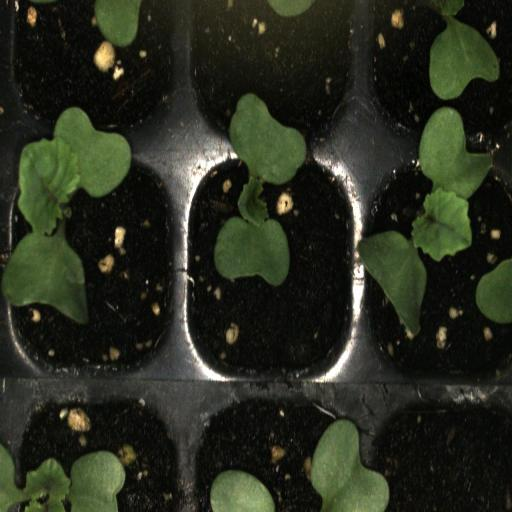seedling: (180, 142, 372, 380), (4, 139, 182, 378), (363, 142, 511, 391)
